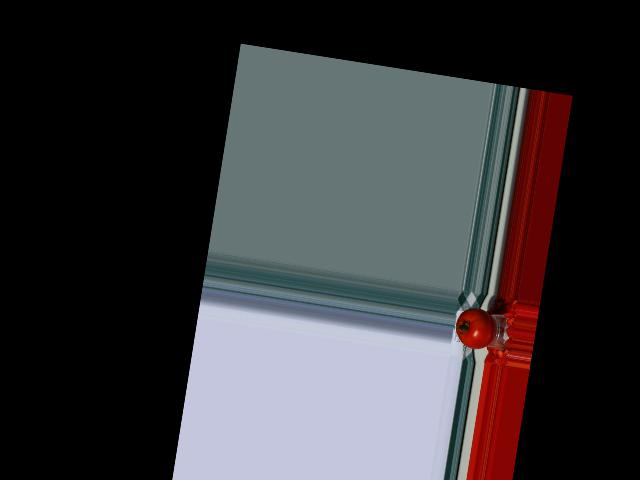tomato: (452, 305, 497, 352)
